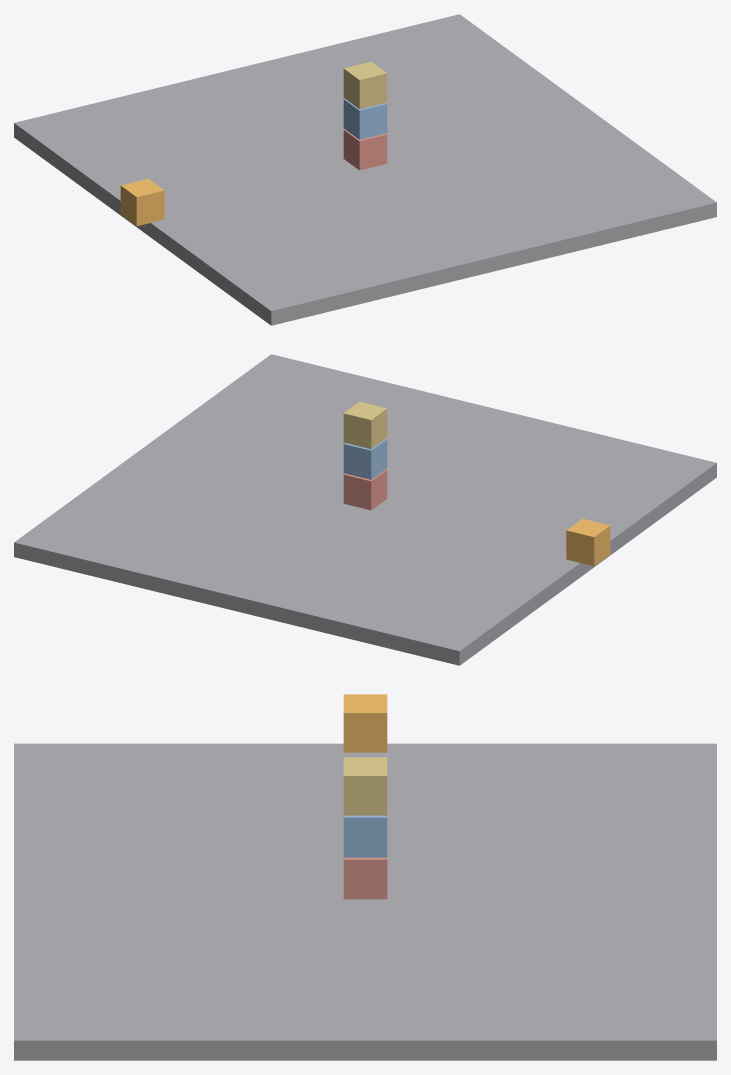
The model's file is SleepDemo.gltf.
3 renders of one model, top to bottom at view 1: azimuth 30°, elevation 25°; view 2: azimuth 150°, elevation 25°; view 3: azimuth 270°, elevation 25°, orthographic. The views are drawn at different scales.
Visible parts, largest first — view 1: Floor, Box2, Striker, Box0, Box1; view 2: Floor, Box2, Striker, Box0, Box1; view 3: Floor, Box2, Striker, Box1, Box0.
Part boxes in pixels (x1,y1,x2,y2): Floor: (14, 14, 716, 325); Box2: (343, 61, 387, 109); Striker: (120, 178, 164, 226); Box0: (343, 129, 387, 170); Box1: (343, 98, 387, 139); Floor: (14, 354, 716, 665); Box2: (343, 401, 387, 449); Striker: (566, 518, 610, 566); Box0: (343, 469, 387, 510); Box1: (343, 438, 387, 479); Floor: (14, 743, 716, 1060); Box2: (343, 757, 387, 815); Striker: (343, 694, 387, 752); Box1: (343, 815, 387, 857); Box0: (343, 857, 387, 899).
Bounding box in the file's own units: 16.5 × 3.65 × 16.
